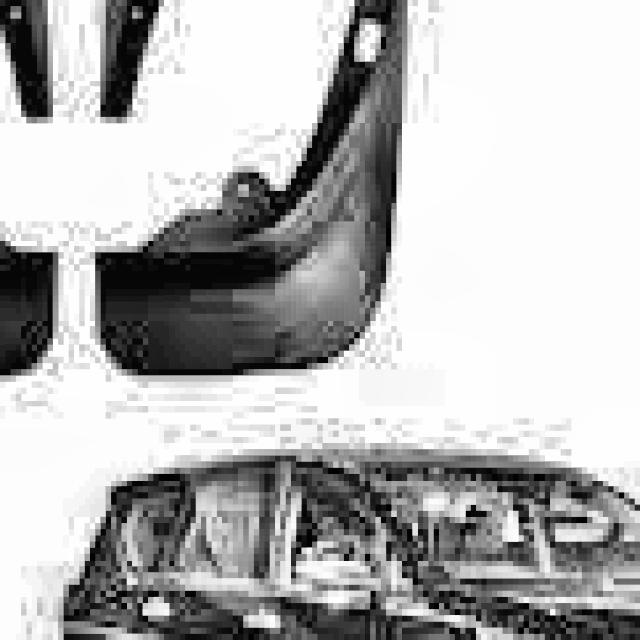light_vehicle: (53, 443, 640, 640)
